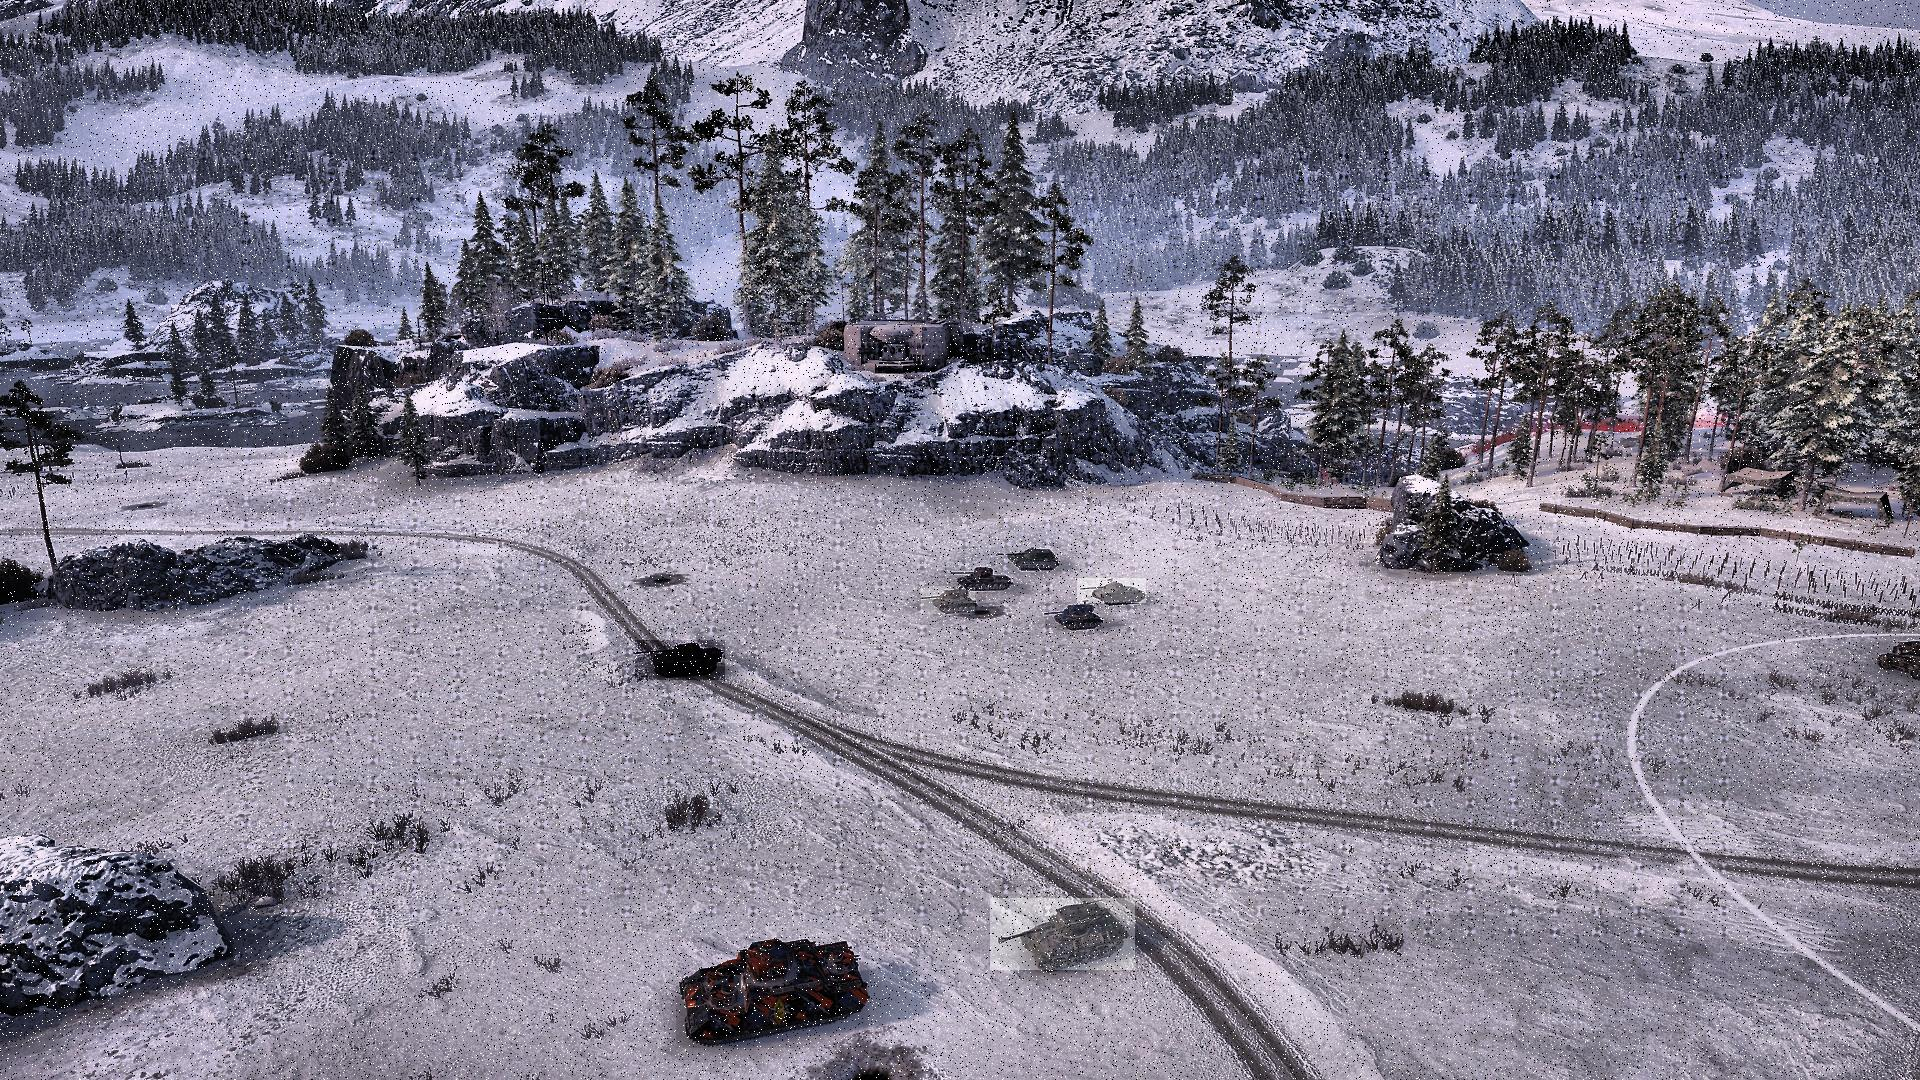military-vehicle: (676, 936, 870, 1048), (990, 898, 1135, 971), (636, 640, 725, 680), (1077, 579, 1146, 604), (1046, 603, 1102, 630), (922, 585, 976, 615), (952, 566, 1013, 591), (996, 547, 1059, 570)
